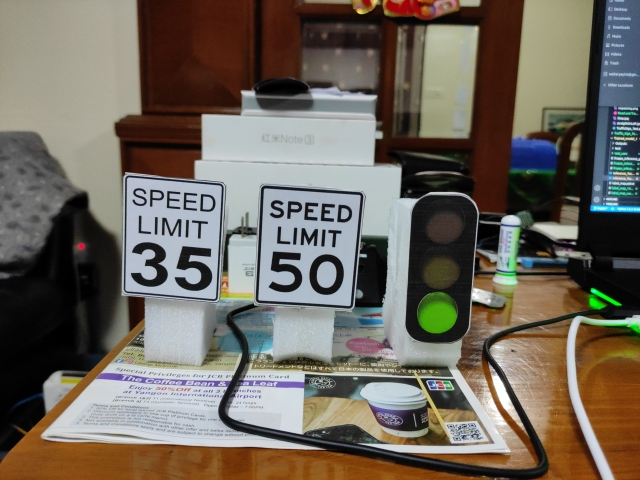Green Traffic Light: (405, 193, 479, 344)
Speed Limit 35: (121, 173, 226, 303)
Speed Limit 50: (255, 184, 366, 310)
